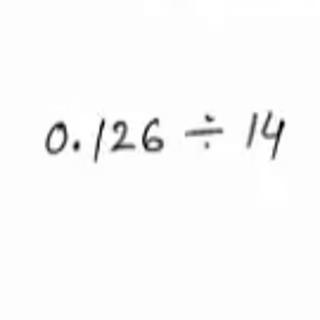.: (70, 136, 86, 151)
0: (44, 120, 69, 154)
1: (93, 116, 105, 166), (244, 110, 257, 150)
2: (109, 120, 134, 153)
4: (262, 112, 286, 158)
6: (141, 116, 164, 154)
